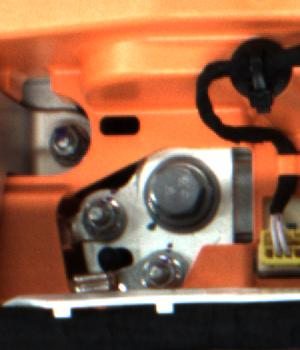nut_b: (143, 154, 226, 231)
